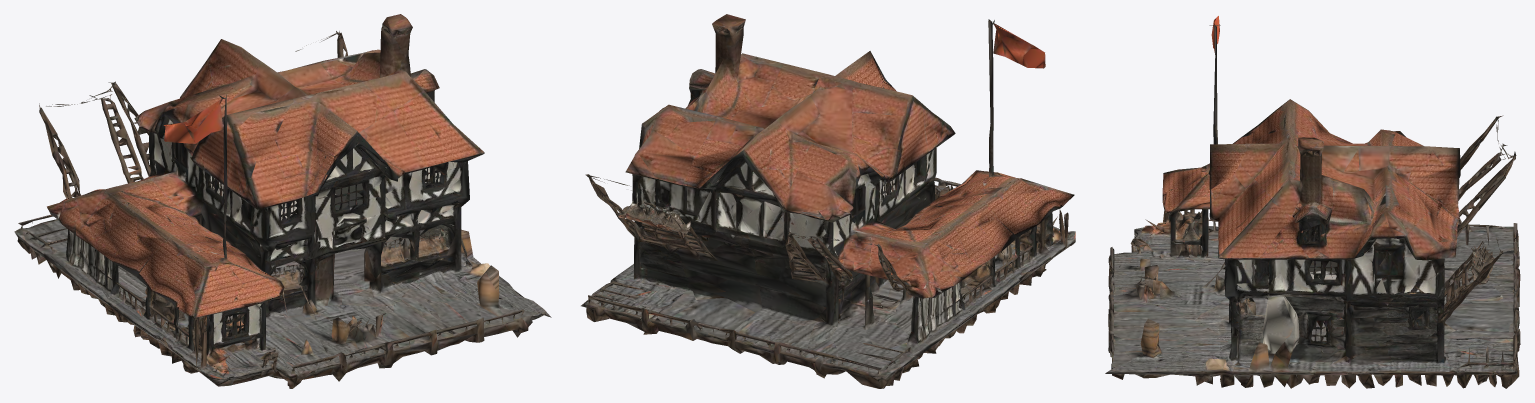
The model's file is kontor.glb.
3 renders of one model, left to right at view 1: azimuth 30°, elevation 25°; view 2: azimuth 150°, elevation 25°; view 3: azimuth 270°, elevation 25°, orthographic. The views are drawn at different scales.
Bounding box in the file's own units: 1.62 × 1.23 × 1.89.
Materials: 1 (1 with a texture image).
